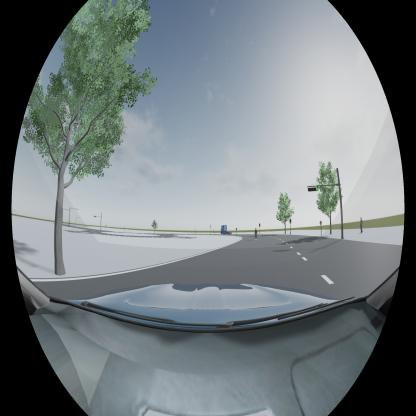Green Light: (308, 187, 318, 192), (290, 218, 291, 224)
Red Light: (259, 223, 260, 227)
